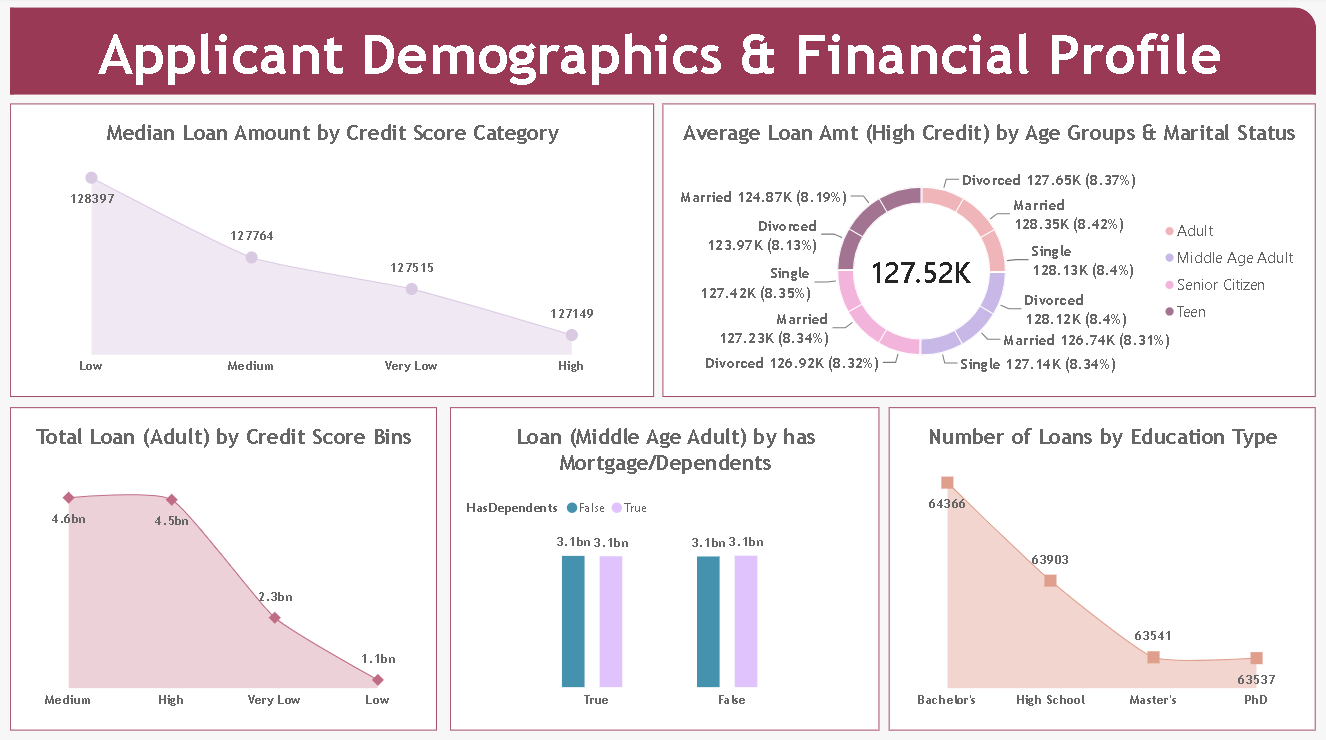

This screenshot's page, from the dashboard's own definition file:
{"tool":"powerbi","page":{"name":"Applicant Demographics & Financial Profile","canvas":[1280,720],"ordinal":1},"visuals":[{"type":"shape","box":[9.7,10.9,1260.7,84.5],"z":0},{"type":"lineChart","title":"Median Loan Amount by Credit Score Category","fields":{"Category":["Loan_default.Credit Score Bins"],"Y":["Measures Table2.Median by Credit Score bins"]},"box":[9.1,104,621.3,283.3],"z":1000},{"type":"donutChart","title":"Average Loan Amt (High Credit) by Age Groups & Marital Status","fields":{"Category":["Loan_default.Age Group"],"Series":["Loan_default.MaritalStatus"],"Y":["Measures Table2.Average Loan Amt (High Credit)"]},"box":[639.5,104,630.4,283.3],"z":2000},{"type":"lineChart","title":"Total Loan (Adult) by Credit Score Bins","fields":{"Category":["Loan_default.Credit Score Bins"],"Y":["Measures Table2.Total Loan (Credit Bins)"]},"box":[9.1,396.4,412,311.9],"z":3000},{"type":"clusteredColumnChart","title":"Loan (Middle Age Adult) by has Mortgage/Dependents","fields":{"Category":["Loan_default.HasMortgage"],"Series":["Loan_default.HasDependents"],"Y":["Measures Table2.Total Loan (Middle Age Adult)"]},"box":[434.1,396.4,414.6,311.9],"z":4000},{"type":"lineChart","title":"Number of Loans by Education Type","fields":{"Category":["Loan_default.Education"],"Y":["Measures Table2.Loans by Education Type"]},"box":[857.8,396.4,412,311.9],"z":5000}]}

Visuals, with their boxes in screenshot pixels (x1, y1, x2, y2), scaled from the page's 1280x720 canvas onto the 1326x740 screenshot:
shape: box(10, 11, 1316, 98)
"Median Loan Amount by Credit Score Category" lineChart: box(9, 107, 653, 398)
"Average Loan Amt (High Credit) by Age Groups & Marital Status" donutChart: box(662, 107, 1316, 398)
"Total Loan (Adult) by Credit Score Bins" lineChart: box(9, 407, 436, 728)
"Loan (Middle Age Adult) by has Mortgage/Dependents" clusteredColumnChart: box(450, 407, 879, 728)
"Number of Loans by Education Type" lineChart: box(889, 407, 1315, 728)
